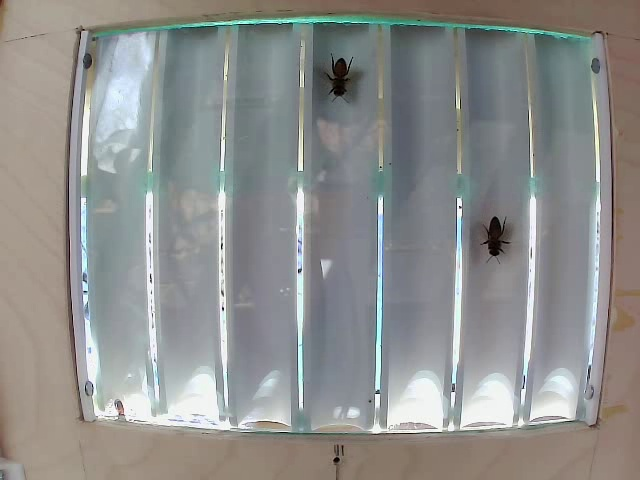bee: (314, 45, 362, 111), (478, 196, 512, 282)
